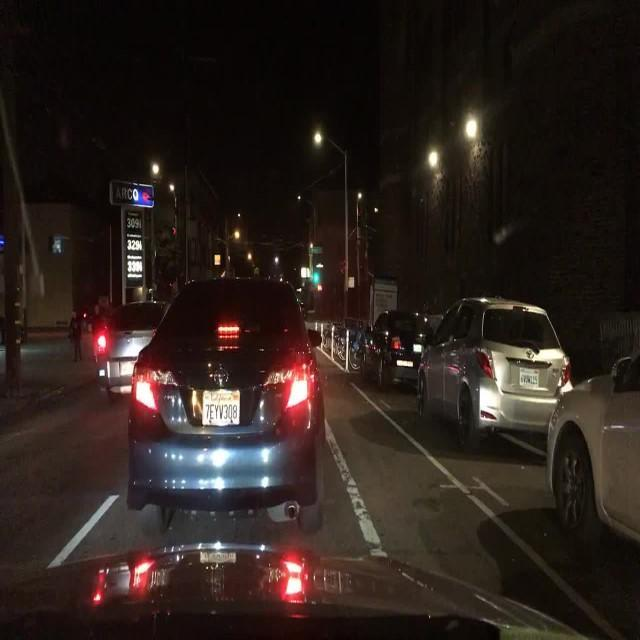normal: (117, 257, 354, 542), (389, 259, 585, 468)
